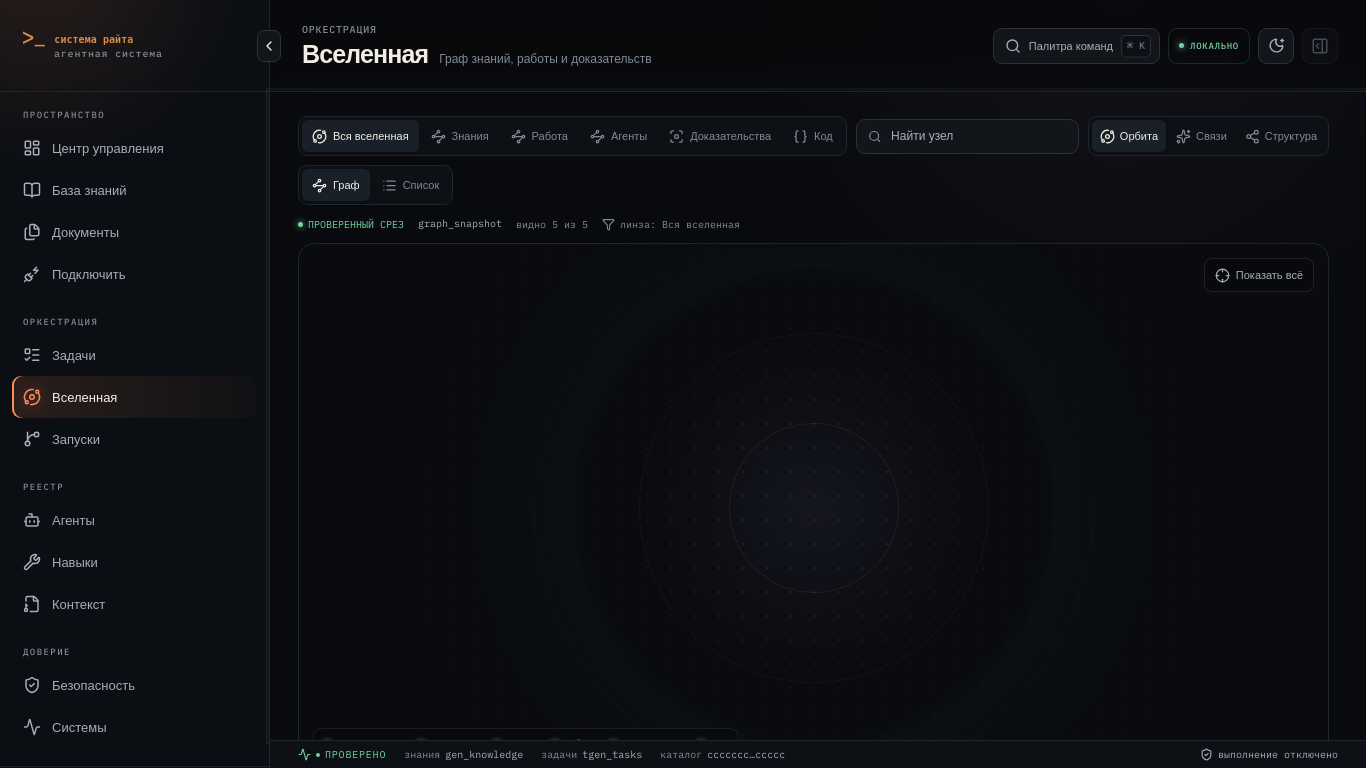
Test: raytsystem control plane › offers an accessible list equivalent for the universe
This screenshot has width=1366, height=768.
Expected: the heading "Вселенная" is shown, 302,42 -> 428,67
Click the button "Список": coordinates (410, 185) 372,169 -> 449,201
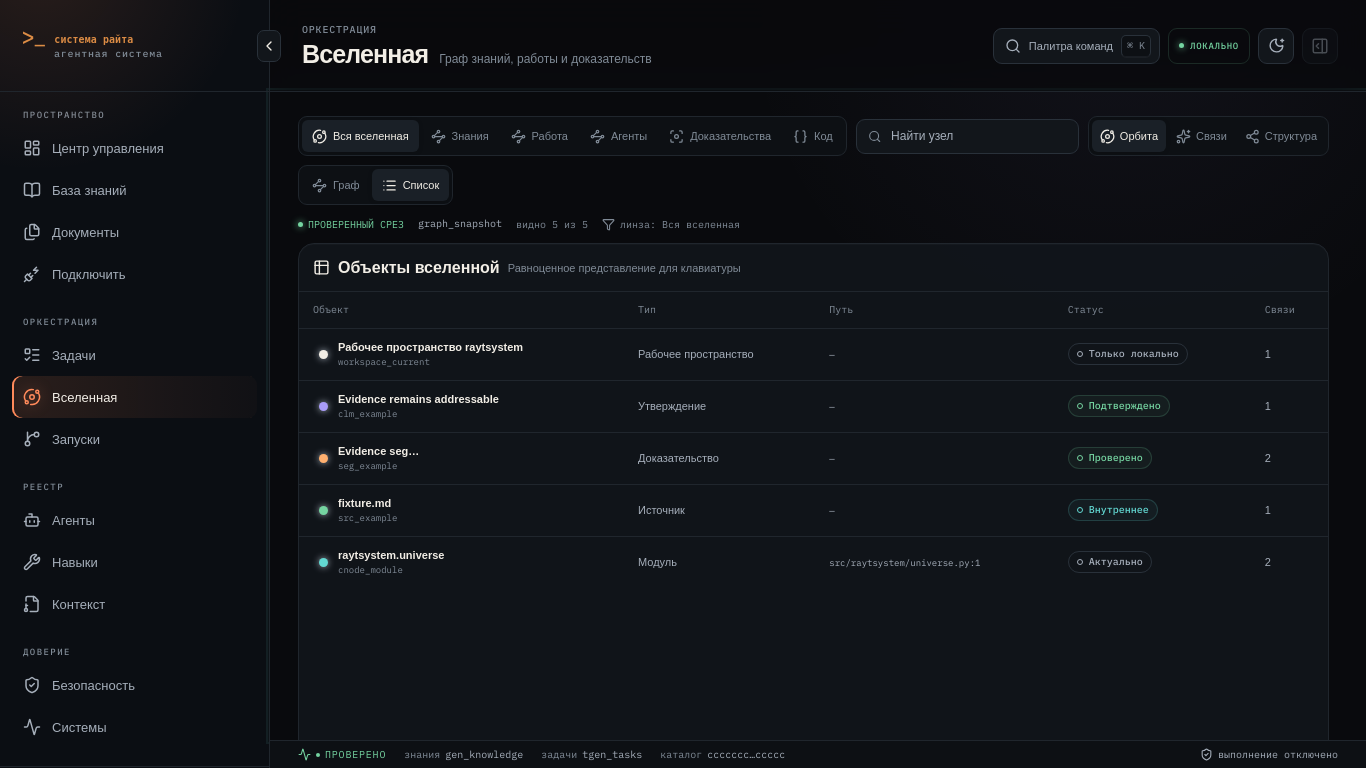
Expected: the text "Evidence remains addressable" is shown, 338,393 -> 499,405
Expected: the text "Равноценное представление для клавиатуры" is shown, 508,262 -> 741,274
